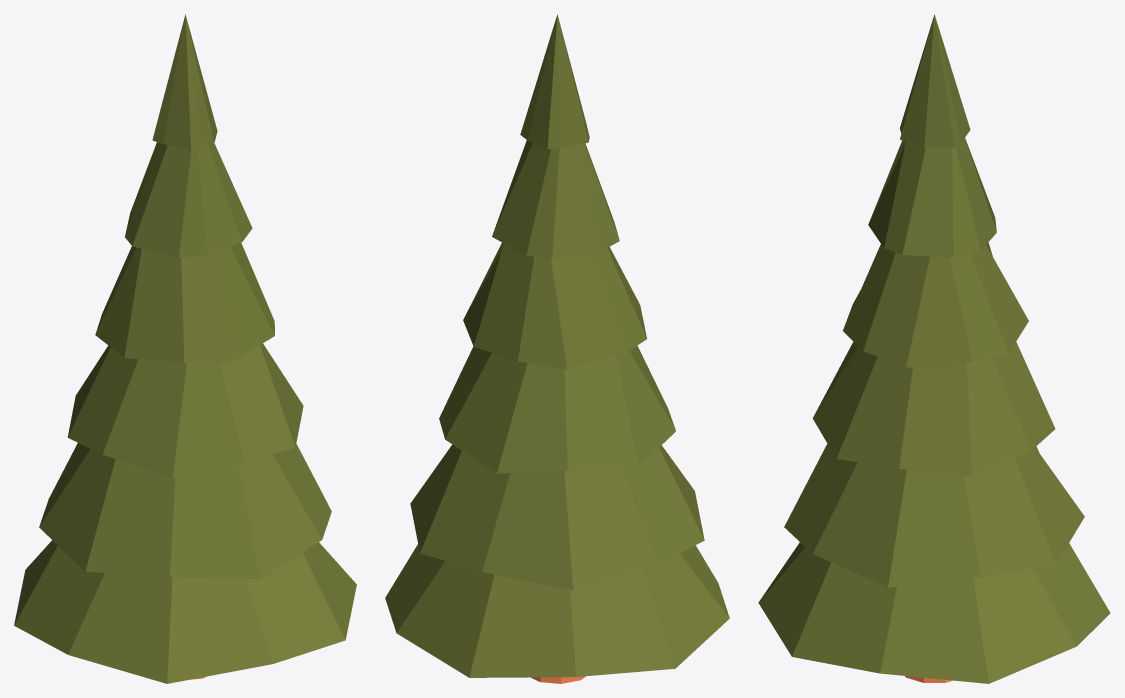
The model's file is tree.fbx.
3 renders of one model, left to right at view 1: azimuth 30°, elevation 25°; view 2: azimuth 150°, elevation 25°; view 3: azimuth 270°, elevation 25°, orthographic.
Visible parts, largest first — view 1: Cylinder; view 2: Cylinder; view 3: Cylinder.
Boxes of the visible parts, bbox=[...] form: Cylinder: bbox=[14, 14, 356, 683]; Cylinder: bbox=[385, 14, 729, 677]; Cylinder: bbox=[758, 14, 1110, 683].
Bounding box in the file's own units: 380 × 821 × 400.
